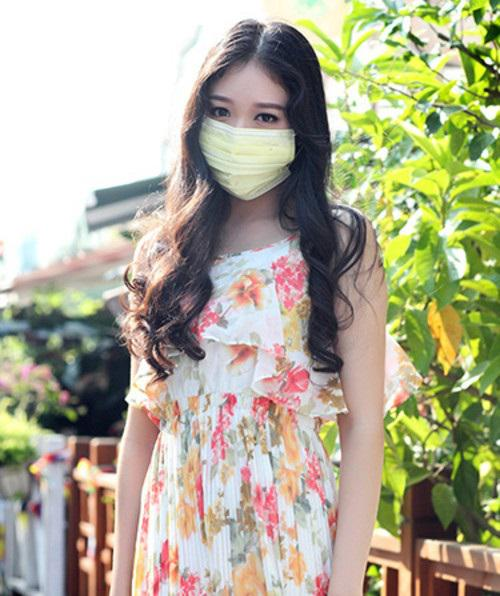OK: (201, 77, 298, 200)
